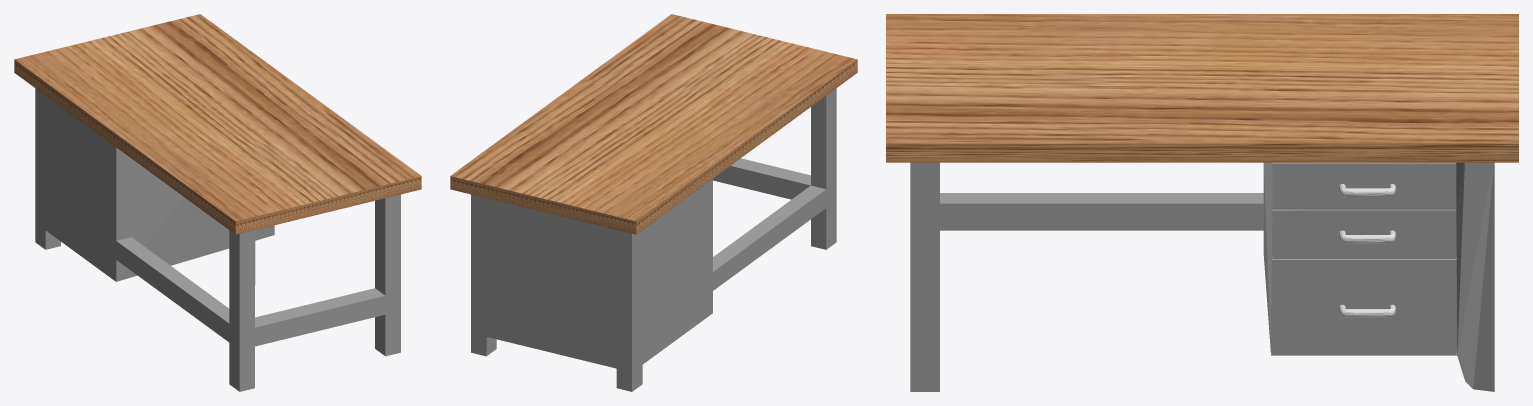
The model's file is Table 5.fbx.
3 renders of one model, left to right at view 1: azimuth 30°, elevation 25°; view 2: azimuth 150°, elevation 25°; view 3: azimuth 270°, elevation 25°, orthographic. The views are drawn at different scales.
Visible parts, largest first — view 1: Table 5; view 2: Table 5; view 3: Table 5.
Part boxes in pixels (x1,y1,x2,y2): Table 5: [14, 14, 421, 391]; Table 5: [450, 14, 857, 391]; Table 5: [886, 14, 1518, 391].
Bounding box in the file's own units: 75.74 × 69.94 × 156.
Materials: 3 (1 with a texture image).
